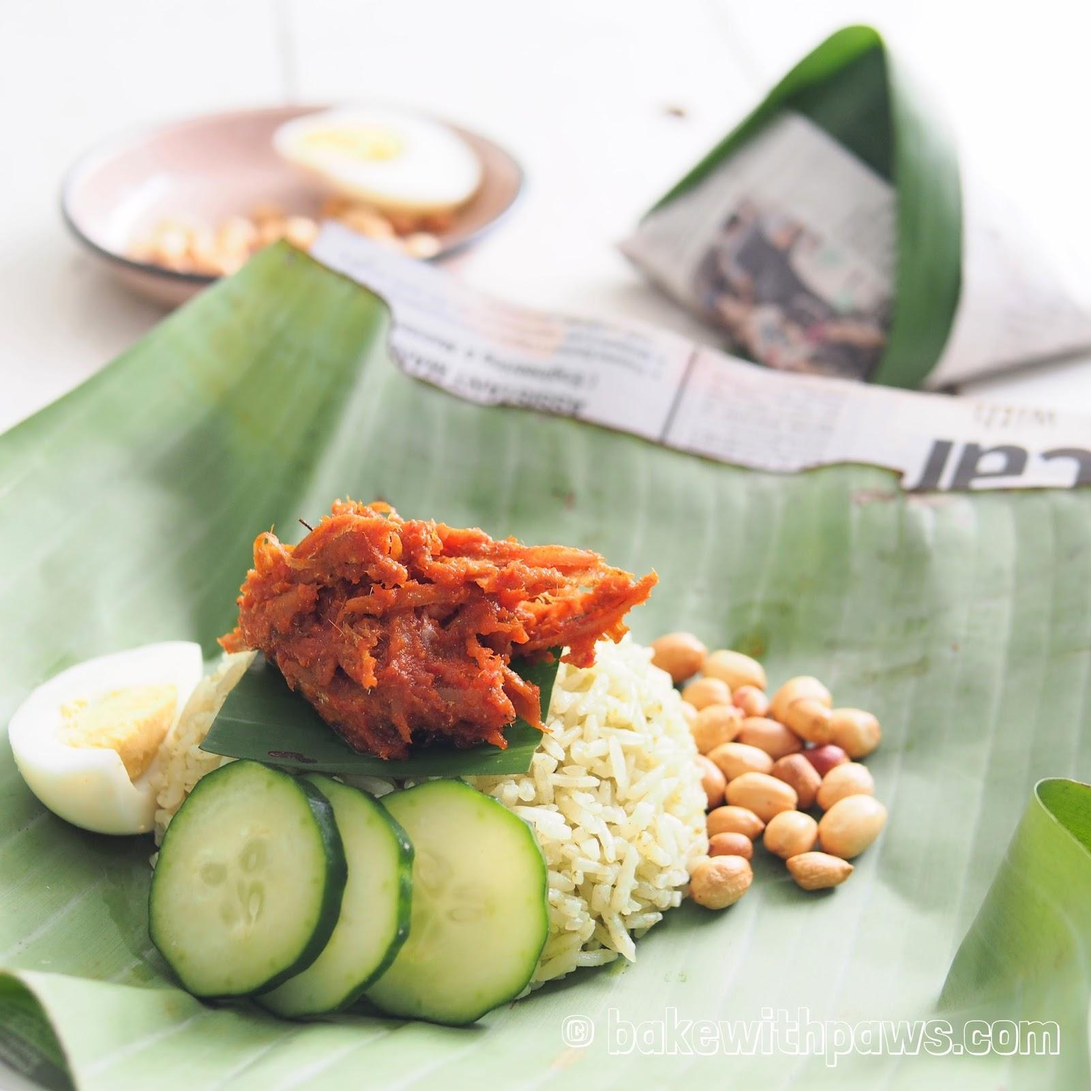Boiled-Egg: (10, 644, 207, 840)
Cucumber: (150, 762, 546, 1026)
Peanuts: (651, 633, 887, 909)
Rice: (148, 641, 716, 990)
Sambal: (235, 500, 656, 762)
